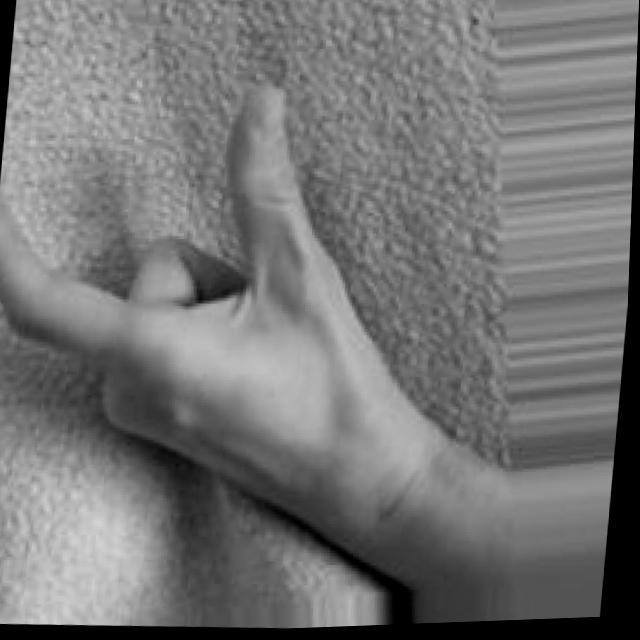U: (0, 49, 420, 583)
